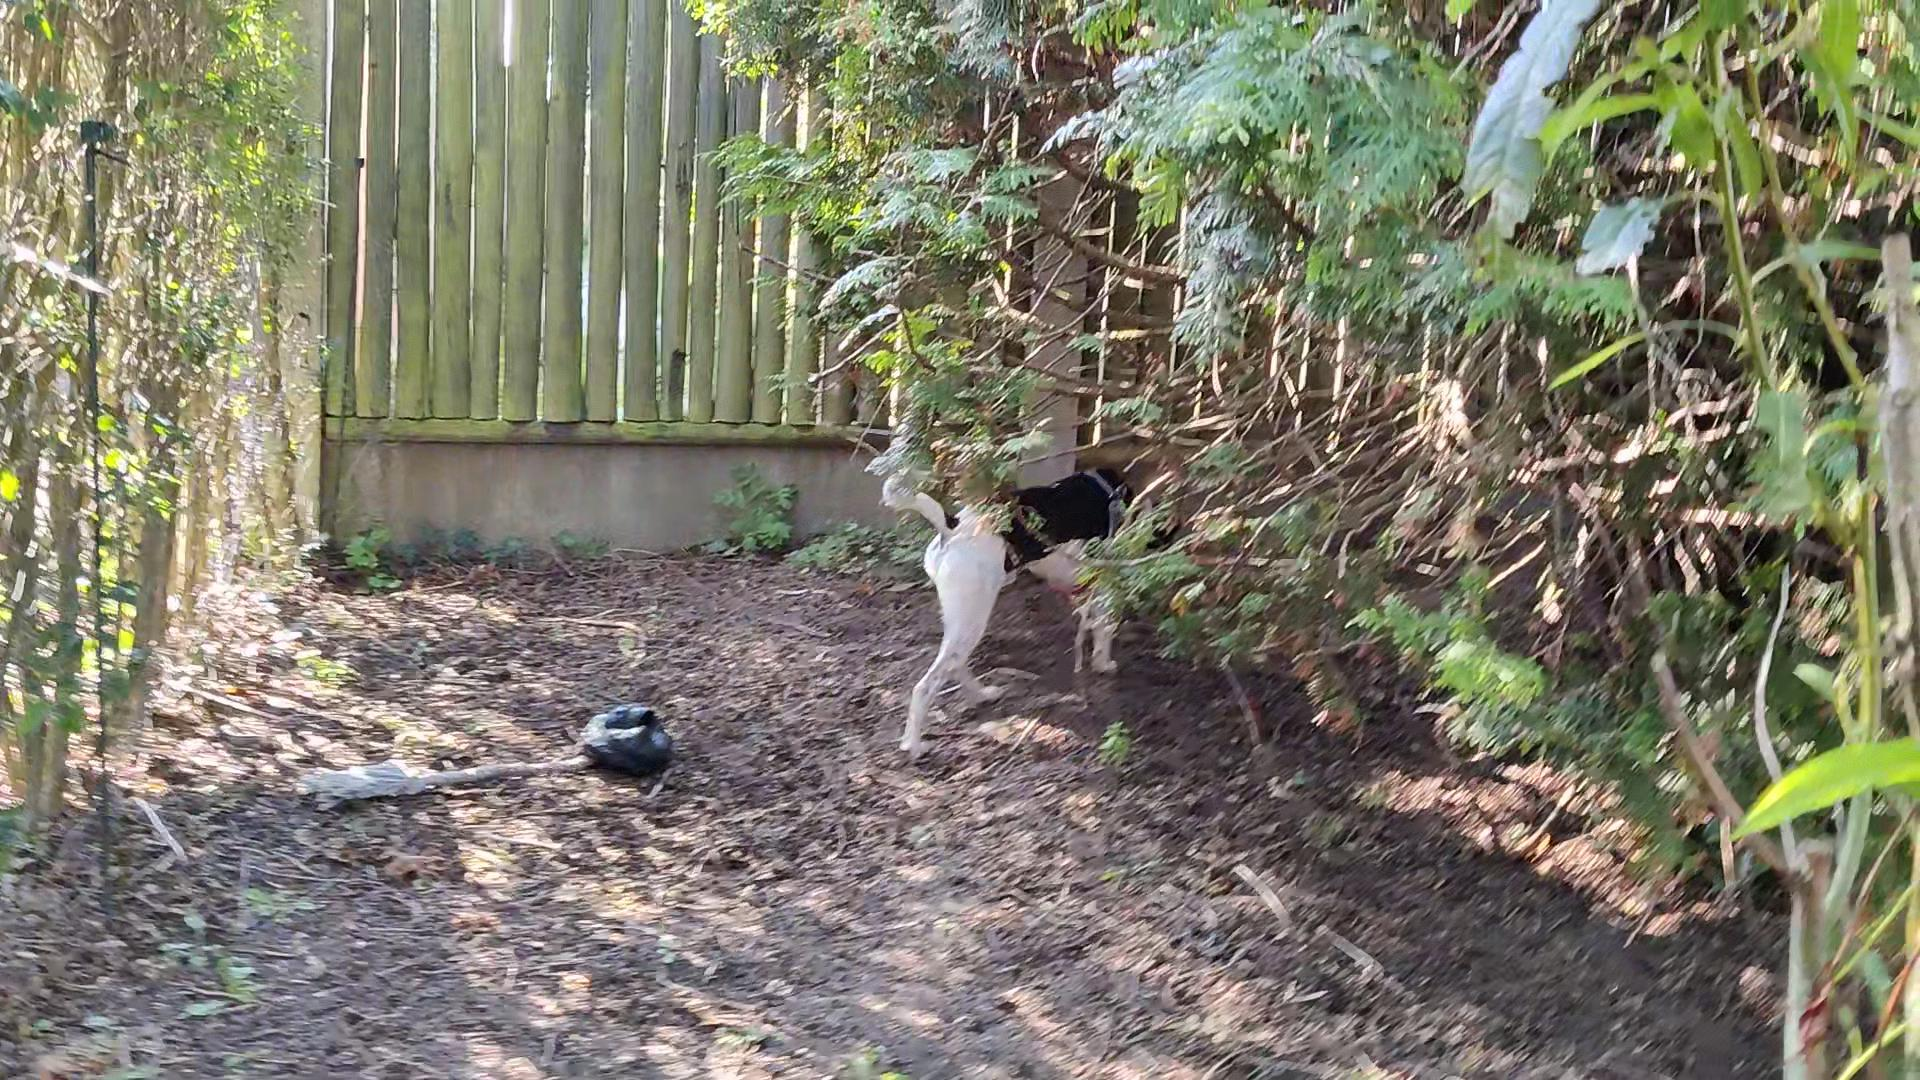Dog: (866, 448, 1189, 757)
